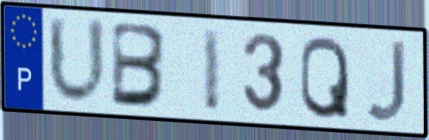3: (239, 31, 287, 116)
B: (109, 19, 171, 111)
I: (199, 25, 223, 114)
J: (362, 38, 409, 125)
Q: (297, 33, 352, 122)
U: (45, 12, 110, 109)
